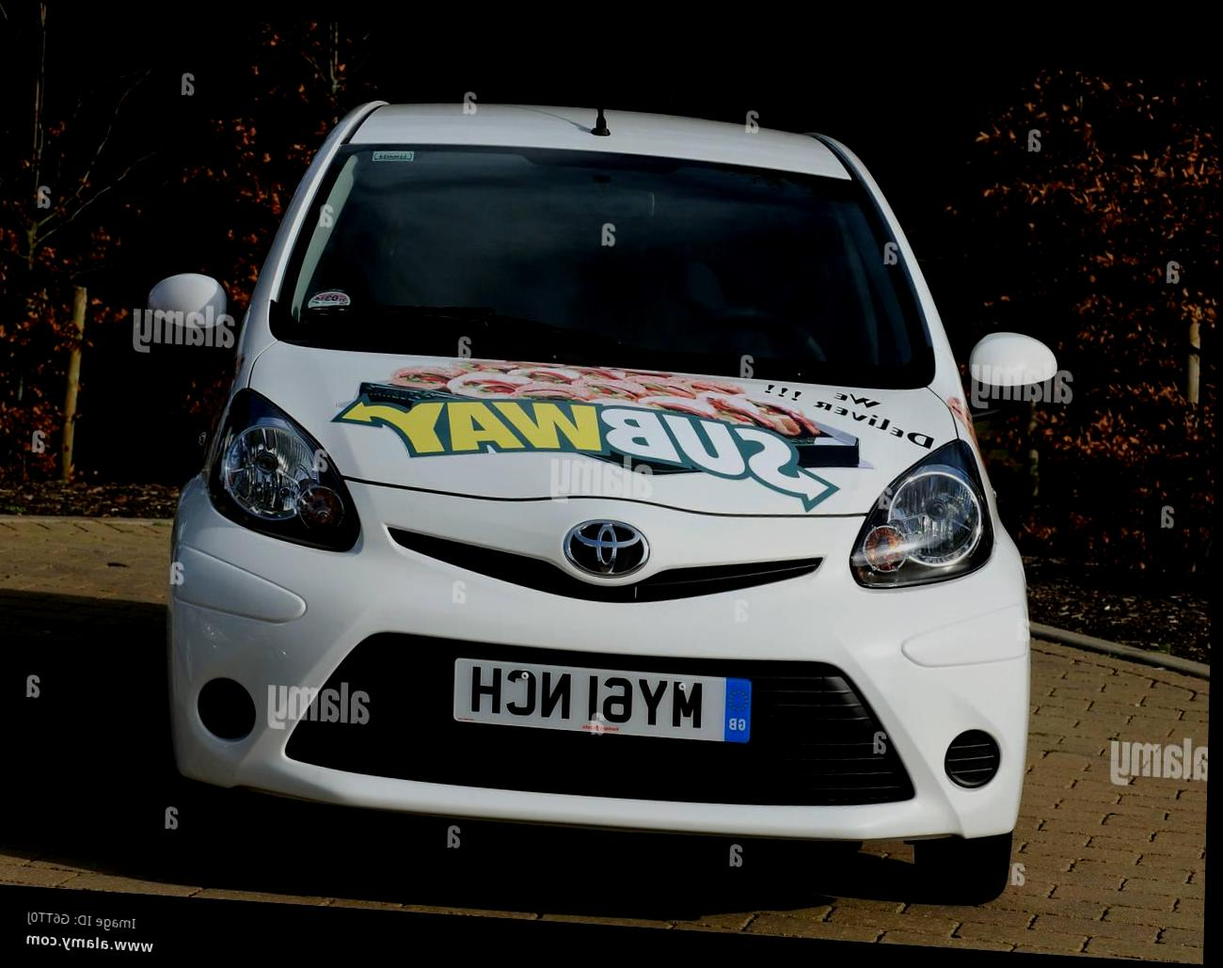License_Plate: (441, 645, 762, 757)
